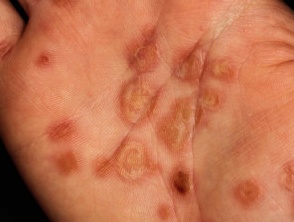SJS-TEN: (27, 0, 249, 222), (230, 158, 294, 220)
